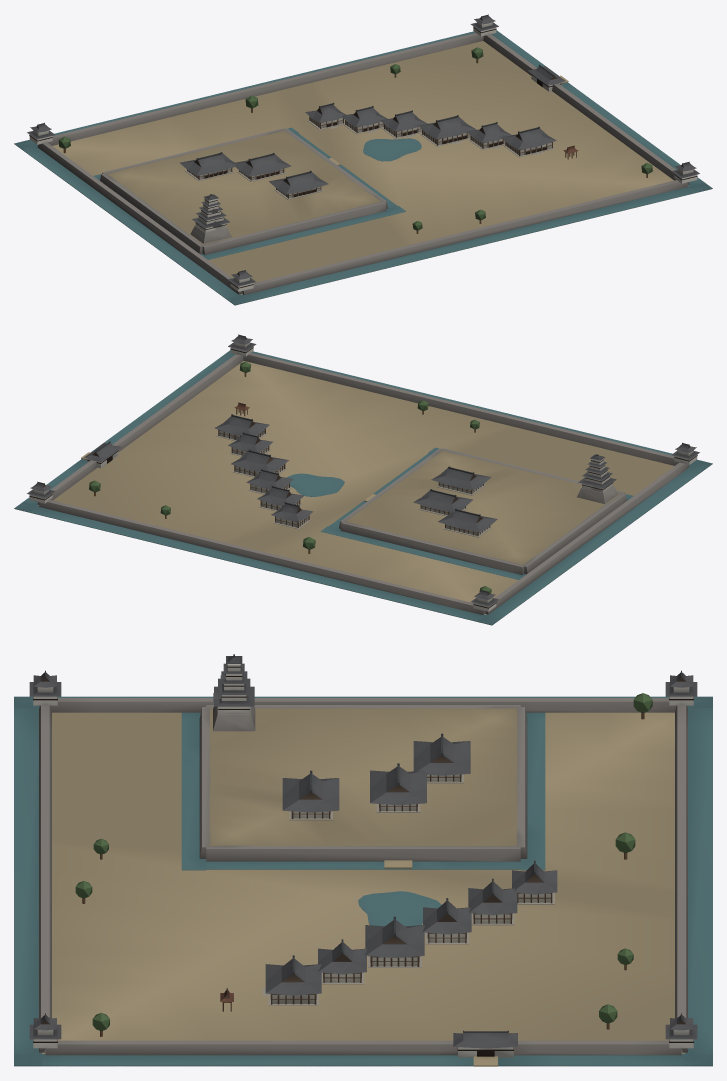
The model's file is nijo-castle.glb.
The picture shows the model from 3 angles, top to bottom: view 1: azimuth 30°, elevation 25°; view 2: azimuth 150°, elevation 25°; view 3: azimuth 270°, elevation 25°; orthographic projection. The views are drawn at different scales.
Parts seen in each view (by area): view 1: p0_grounds, p2_keep, p1_halls; view 2: p0_grounds, p2_keep, p1_halls; view 3: p0_grounds, p2_keep, p1_halls.
Part boxes in pixels (x1,y1,x2,y2): p0_grounds: [14, 30, 712, 305]; p2_keep: [27, 14, 699, 291]; p1_halls: [185, 73, 578, 293]; p0_grounds: [14, 350, 712, 625]; p2_keep: [27, 334, 699, 611]; p1_halls: [87, 402, 492, 613]; p0_grounds: [14, 696, 712, 1066]; p2_keep: [29, 654, 697, 1048]; p1_halls: [44, 774, 682, 1057].
Bounding box in the file's own units: 501 × 49.04 × 400.
